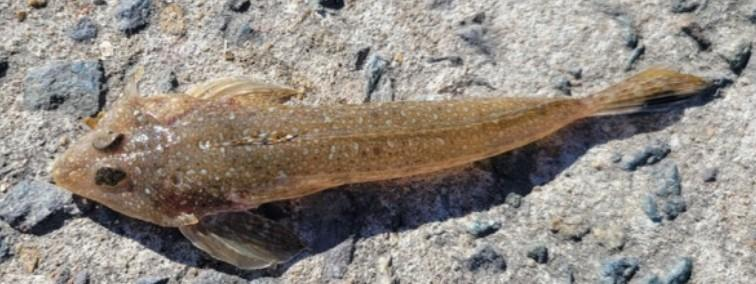fish: (49, 69, 710, 271)
